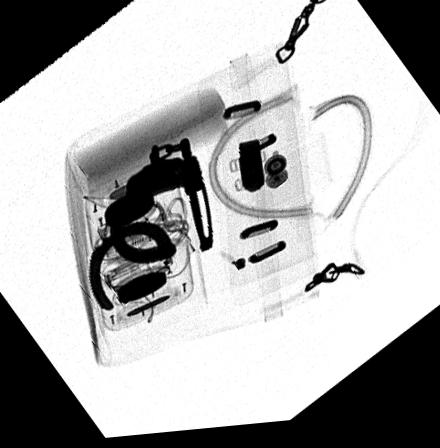HandCuffs: (86, 142, 213, 313)
